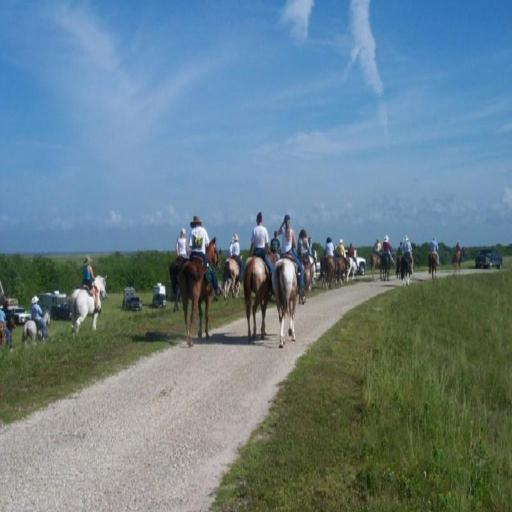horse: (180, 236, 224, 346), (244, 248, 278, 340), (272, 244, 302, 348), (66, 274, 106, 334), (20, 310, 52, 348), (170, 254, 188, 312), (298, 250, 316, 308), (223, 254, 245, 296), (318, 250, 338, 284), (0, 308, 17, 347), (382, 246, 398, 282), (336, 254, 352, 286), (400, 248, 412, 284), (346, 250, 358, 282), (372, 246, 384, 278), (453, 250, 465, 274), (430, 248, 437, 284)
